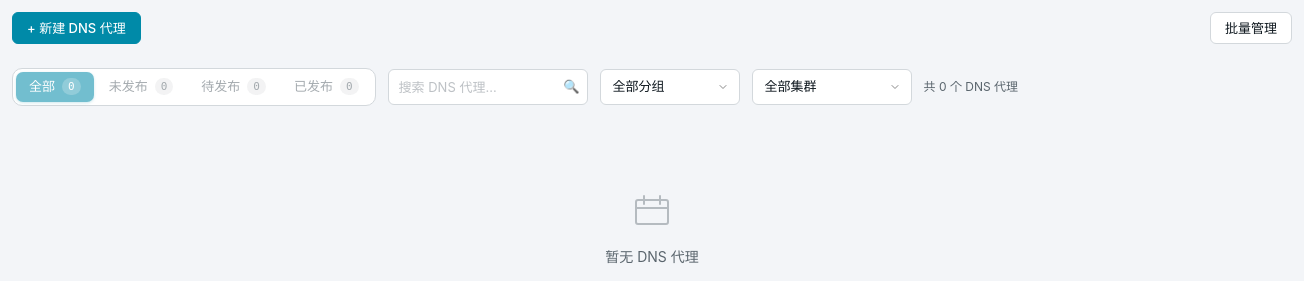
Test: DnsUdpProxyList.vue 批 3 空态 › 搜索无结果空态：含关键词与清除筛选；SVG 图标
Step 1. Type "nonexistent" into the field with placeholder "搜索 DNS 代理..." → (488, 87), box left=388, top=69, right=588, bottom=105
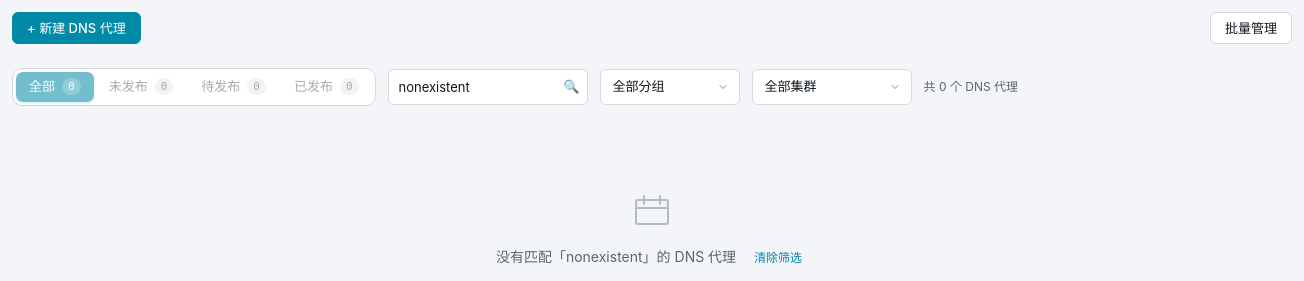
Check: the element with class "sp-empty-text" shows "没有匹配「nonexistent」", box left=496, top=248, right=740, bottom=265
Check: the element with class "sp-empty-text" shows "清除筛选", box left=754, top=250, right=802, bottom=265
